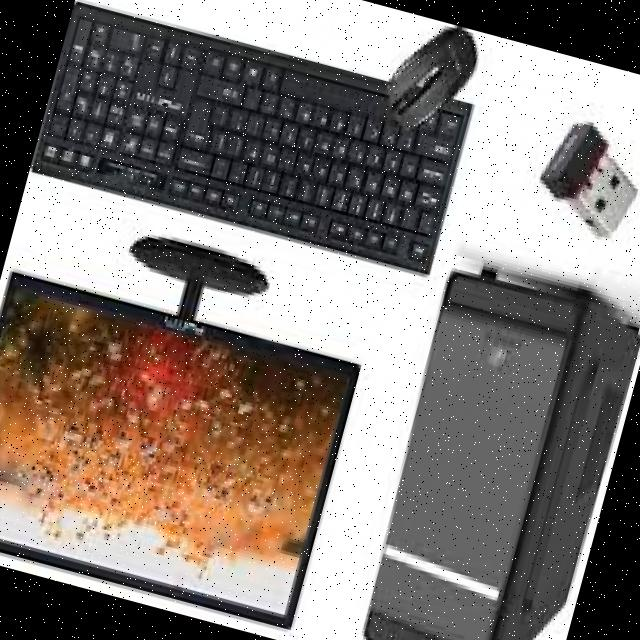Computer: (342, 256, 640, 640)
Monitor: (0, 256, 376, 640)
